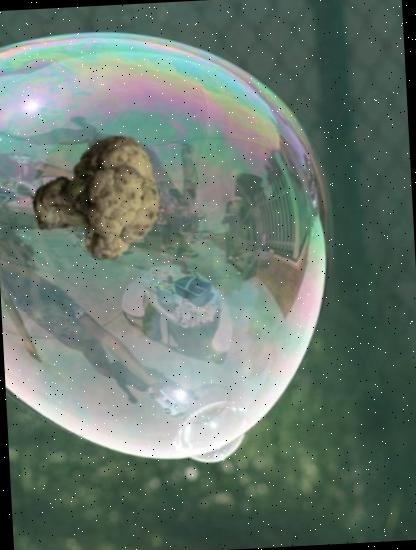Cauliflower: (28, 133, 166, 272)
